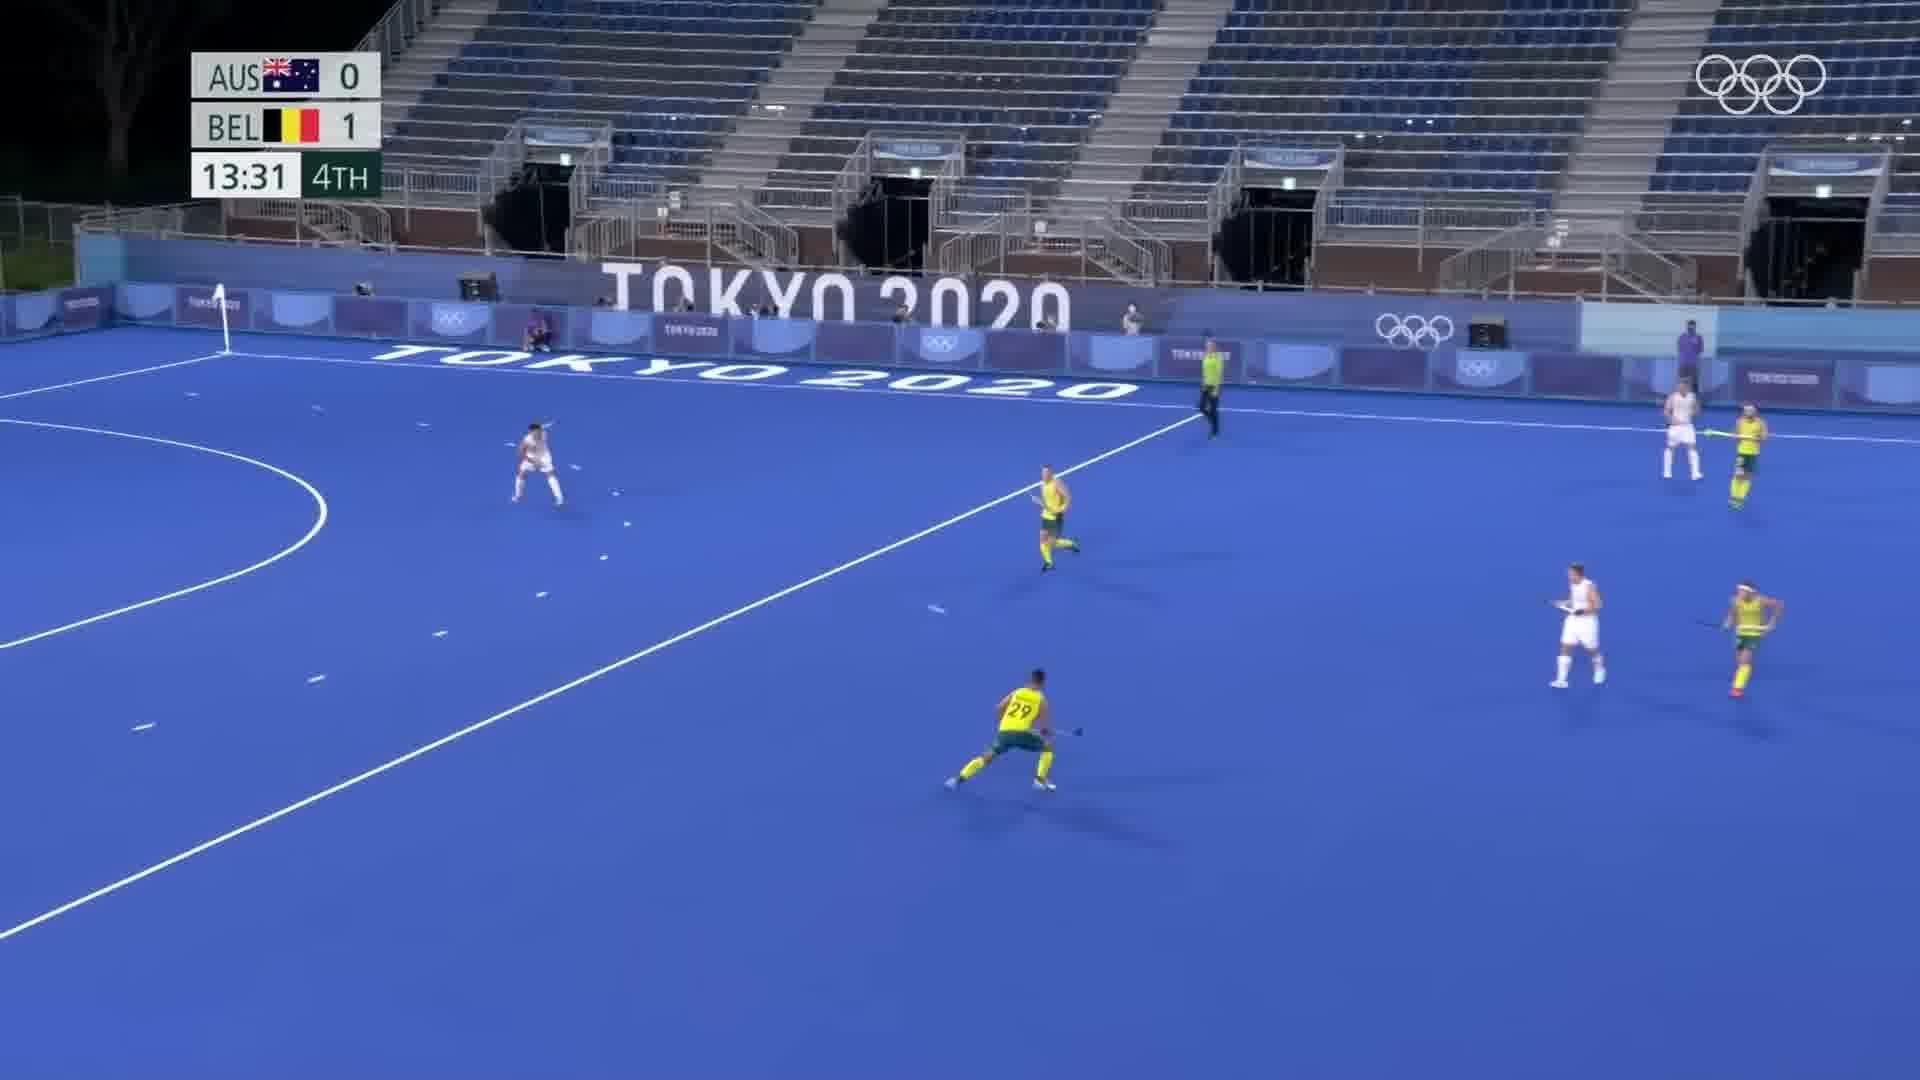ball: (922, 599, 951, 618)
